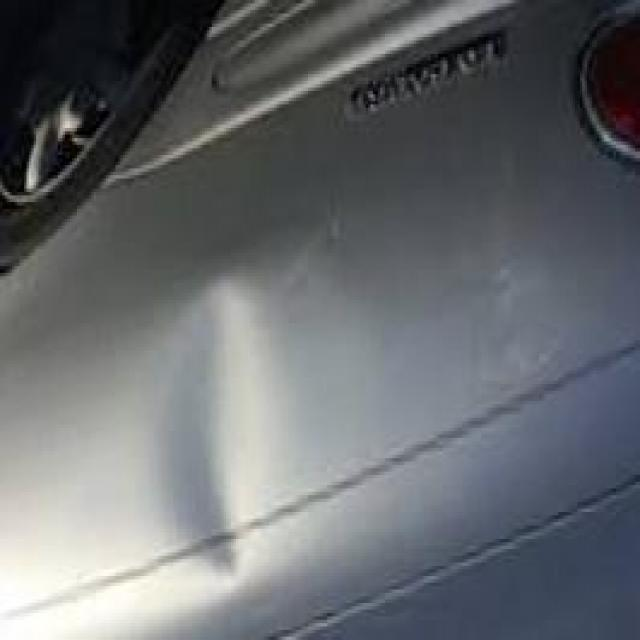dent: (130, 261, 318, 605)
